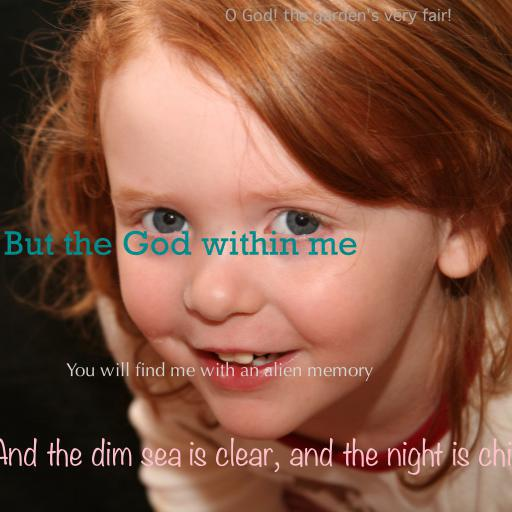Geneva: (224, 8, 452, 25)
Noteworthy: (0, 437, 512, 475)
Optima: (65, 361, 373, 382)
Rockwell: (4, 230, 358, 256)
